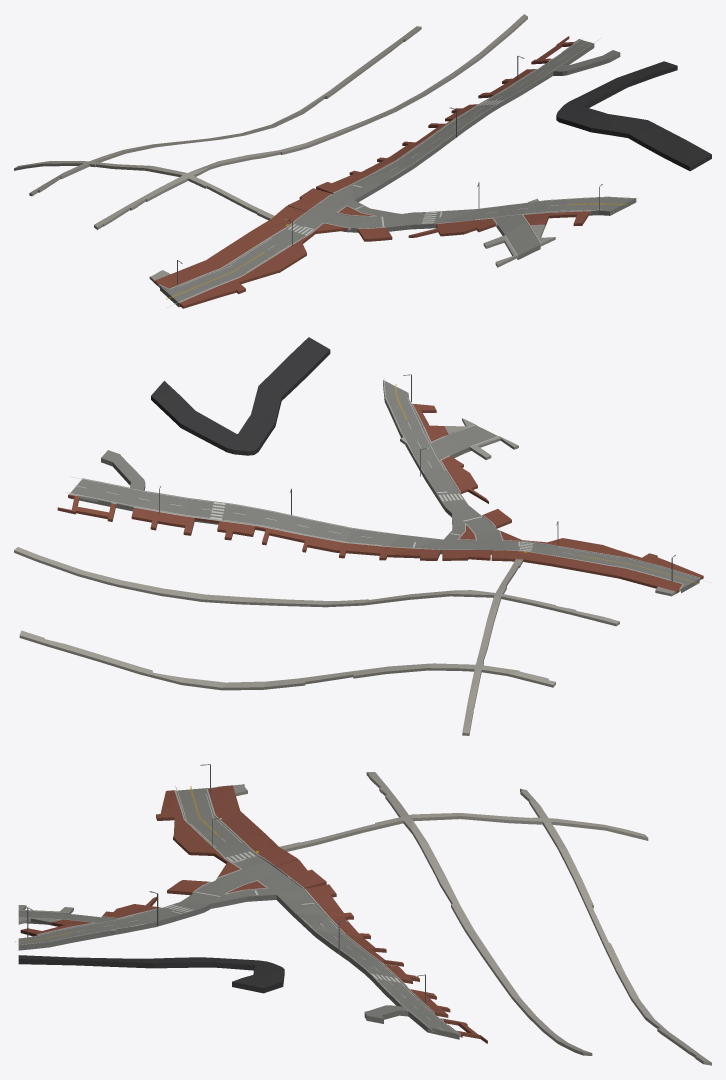
3 views of the same model, one above another, from view 1: azimuth 30°, elevation 25°; view 2: azimuth 150°, elevation 25°; view 3: azimuth 270°, elevation 25° (orthographic). The views are drawn at different scales.
Bounding box in the file's own units: 153 × 35.44 × 145.
